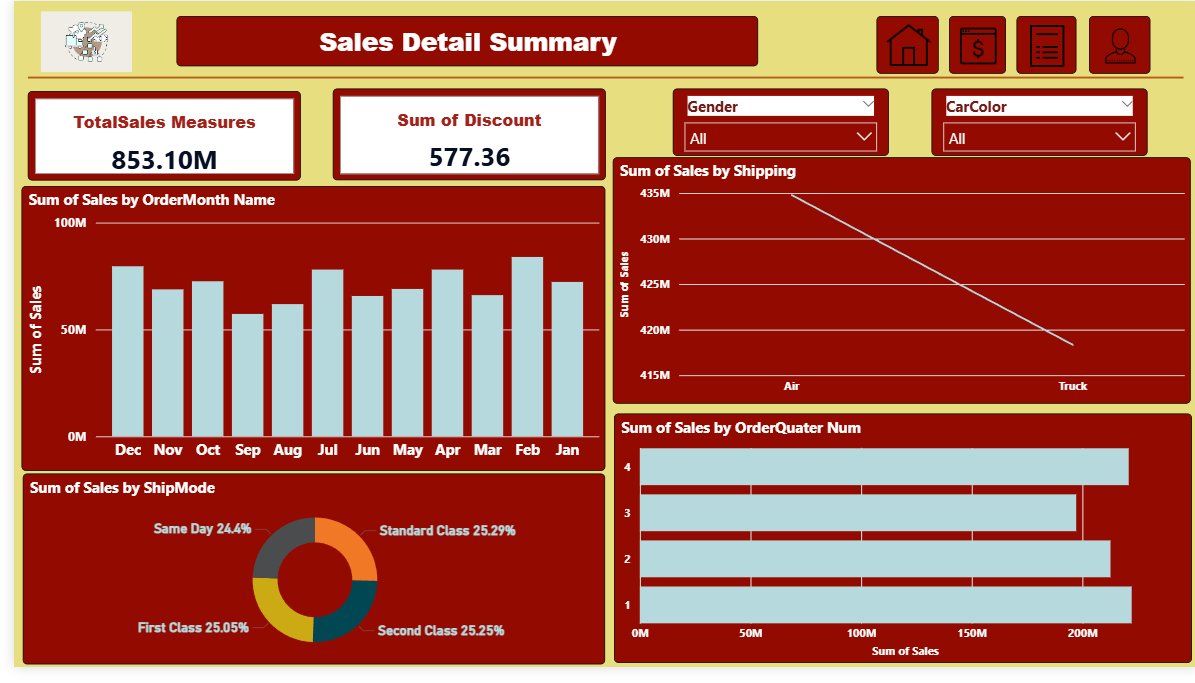

This screenshot's page, from the dashboard's own definition file:
{"tool":"powerbi","page":{"name":"Sales","canvas":[1280,720],"ordinal":2},"visuals":[{"type":"textbox","box":[176.1,15.7,628.6,54.3],"z":0},{"type":"shape","box":[14.5,68.8,1249.9,27.7],"z":1000},{"type":"cardVisual","fields":{"Data":["DAX Measures.TotalSales Measures"]},"box":[15.1,96.6,295,96.6],"z":2000},{"type":"cardVisual","fields":{"Data":["Sum(cars_data.Discount)"]},"box":[345.2,94.1,295,99.2],"z":3000},{"type":"columnChart","fields":{"Y":["Sum(cars_data.Sales)"],"Category":["DateMaster.OrderMonth Name"]},"box":[8.4,200.3,631,307.6],"z":4000},{"type":"donutChart","fields":{"Y":["Sum(cars_data.Sales)"],"Category":["cars_data.ShipMode"]},"box":[9.7,510.3,629.8,206.3],"z":5000},{"type":"lineChart","fields":{"Category":["cars_data.Shipping"],"Y":["Sum(cars_data.Sales)"]},"box":[647.9,168.9,624.9,266.6],"z":6000},{"type":"barChart","fields":{"Y":["Sum(cars_data.Sales)"],"Category":["DateMaster.OrderQuater Num"]},"box":[648.9,445.6,625.1,269.9],"z":7000},{"type":"slicer","fields":{"Values":["cars_data.Gender"]},"box":[711.7,94.1,233.5,72.8],"z":8000},{"type":"slicer","fields":{"Values":["cars_data.CarColor"]},"box":[991.6,94.1,233.5,72.8],"z":9000},{"type":"image","box":[24.1,3.6,108.6,79.6],"z":10000},{"type":"image","box":[1011,15.7,61.5,62.7],"z":11000},{"type":"image","box":[932.6,15.7,67.6,62.7],"z":12000},{"type":"image","box":[1083.4,15.7,65.1,62.7],"z":13000},{"type":"image","box":[1161.8,15.7,66.4,62.7],"z":14000}]}

Visuals, with their boxes in screenshot pixels (x1, y1, x2, y2), scaled from the page's 1280x720 canvas onto the 1195x683 screenshot:
textbox: (left=164, top=15, right=751, bottom=66)
shape: (left=14, top=65, right=1180, bottom=92)
cardVisual - DAX Measures.TotalSales Measures: (left=14, top=92, right=290, bottom=183)
cardVisual - Sum(cars_data.Discount): (left=322, top=89, right=598, bottom=183)
columnChart - Sum(cars_data.Sales) x DateMaster.OrderMonth Name: (left=8, top=190, right=597, bottom=482)
donutChart - Sum(cars_data.Sales) x cars_data.ShipMode: (left=9, top=484, right=597, bottom=680)
lineChart - cars_data.Shipping x Sum(cars_data.Sales): (left=605, top=160, right=1188, bottom=413)
barChart - Sum(cars_data.Sales) x DateMaster.OrderQuater Num: (left=606, top=423, right=1189, bottom=679)
slicer - cars_data.Gender: (left=664, top=89, right=882, bottom=158)
slicer - cars_data.CarColor: (left=926, top=89, right=1144, bottom=158)
image: (left=22, top=3, right=124, bottom=79)
image: (left=944, top=15, right=1001, bottom=74)
image: (left=871, top=15, right=934, bottom=74)
image: (left=1011, top=15, right=1072, bottom=74)
image: (left=1085, top=15, right=1147, bottom=74)
